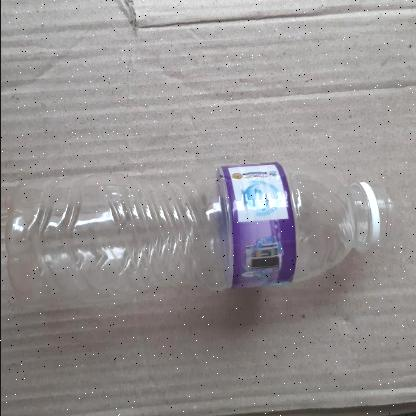Plastic Bottle: (0, 160, 393, 306)
